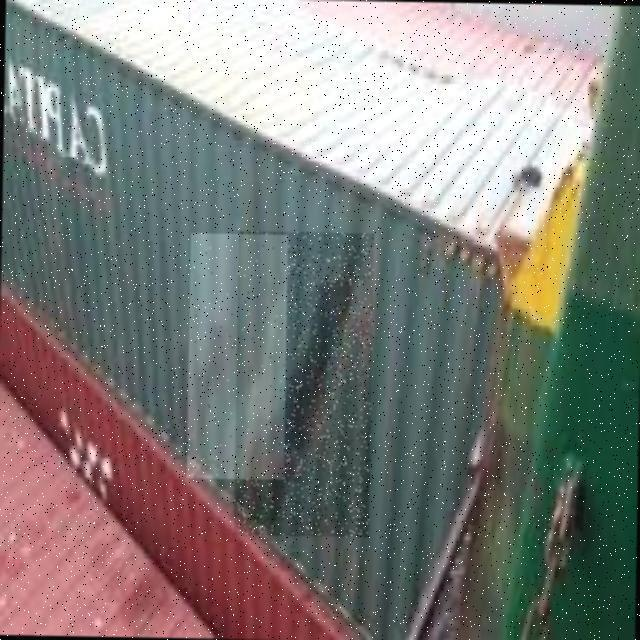dent: (235, 232, 375, 538), (188, 234, 289, 481)
